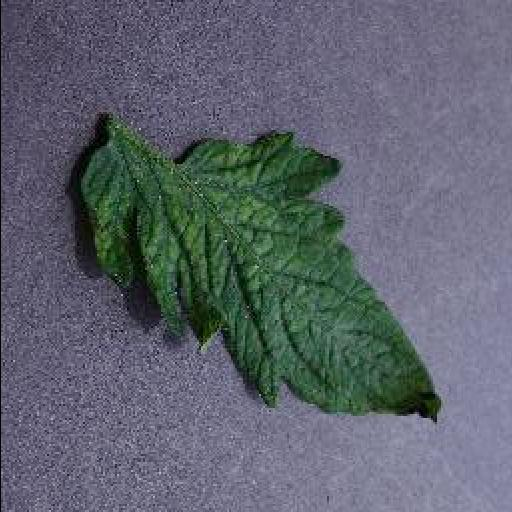Mosaic Virus: (84, 128, 442, 426)
